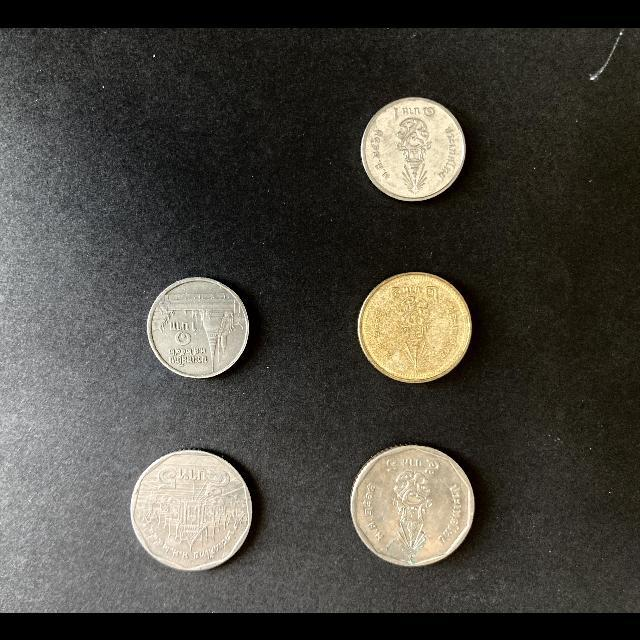1 Bath: (360, 94, 469, 209), (146, 273, 254, 381)
2 Bath: (357, 270, 477, 389)
5 Bath: (349, 441, 479, 571), (129, 446, 257, 576)
